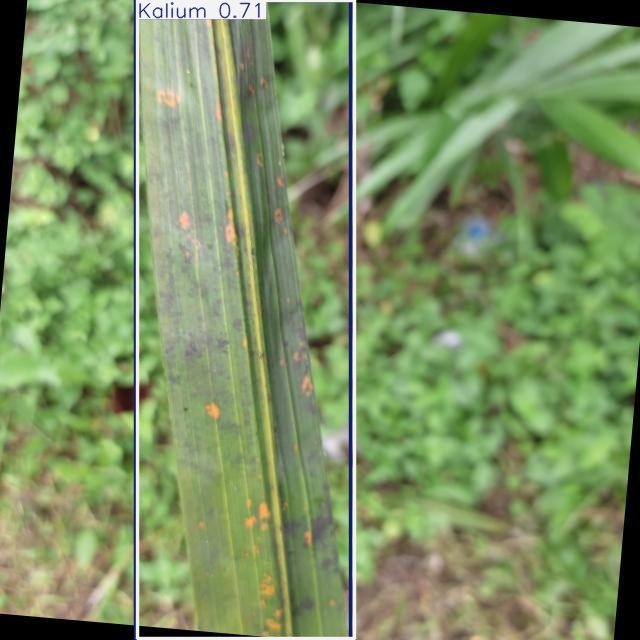Kalium: (138, 0, 354, 639)
nitrogen: (136, 0, 350, 640)
